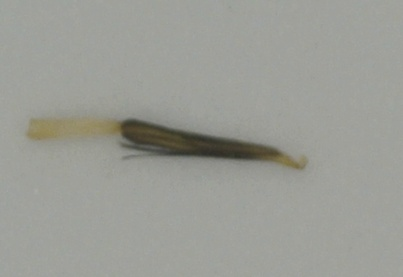เมล็ดงอกแตก: (24, 113, 309, 173)
